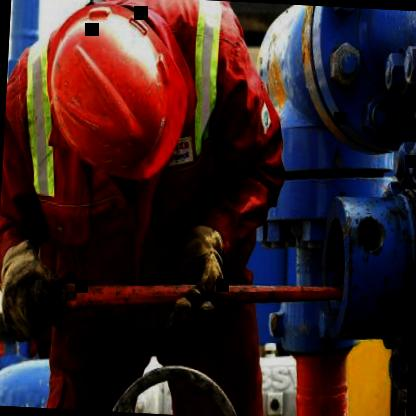helmet: (33, 0, 205, 189)
